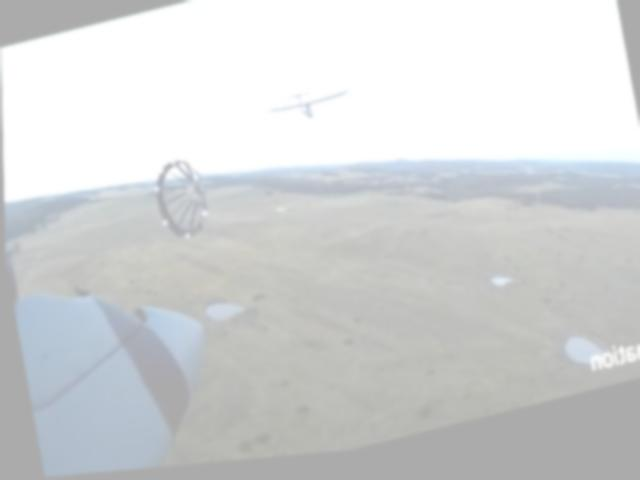uav: (255, 83, 357, 136)
